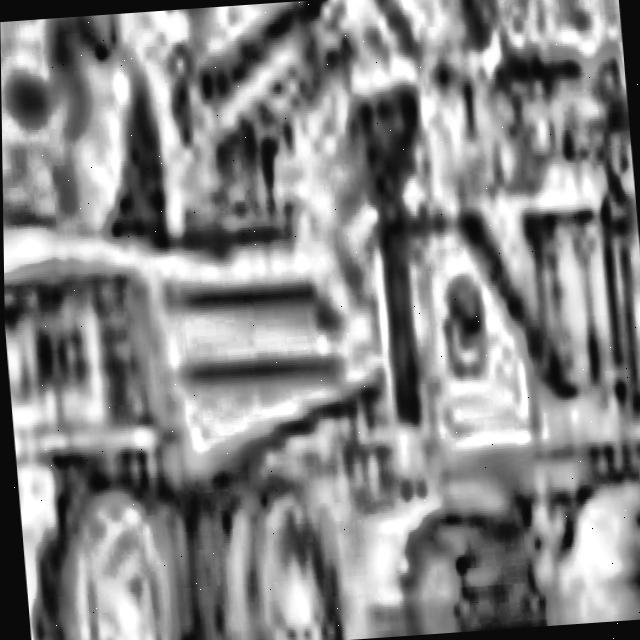dump_truck: (2, 197, 405, 640)
